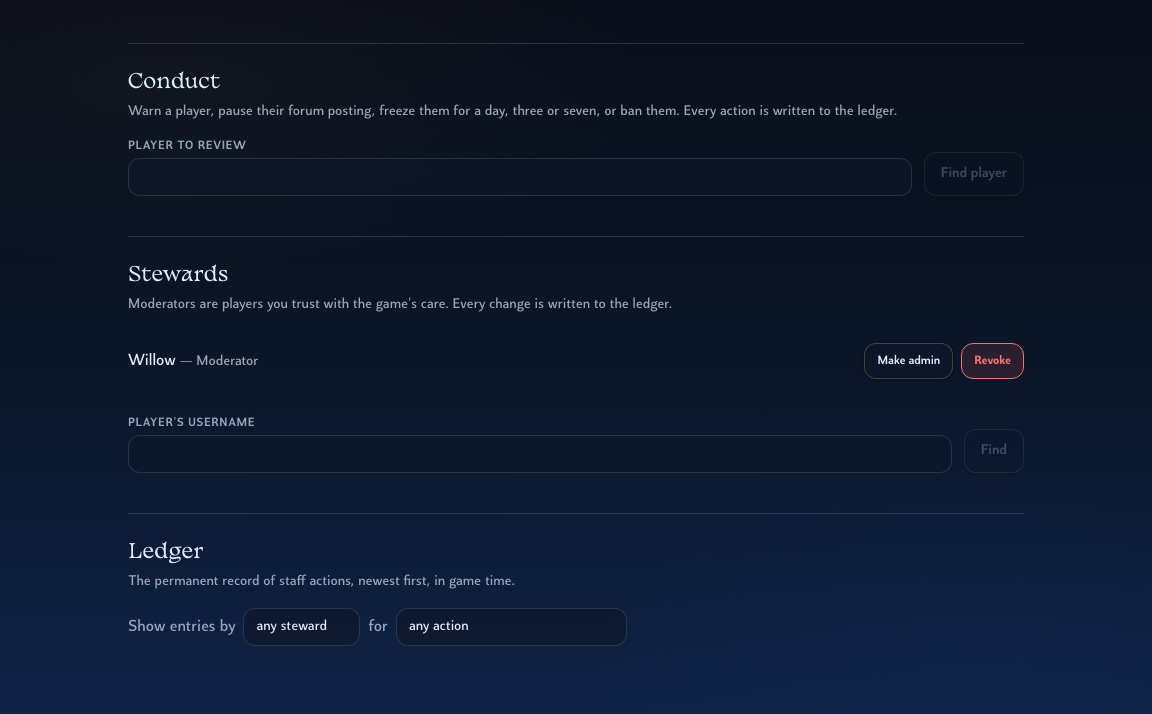
Test: The Steward's Office after an action's check-in has lapsed › a role change refused for a lapsed check-in returns the page to check-in
(page scrolled)
Click the button with aria-label "Revoke Willow" at (993, 361), box [961,343,1024,379]
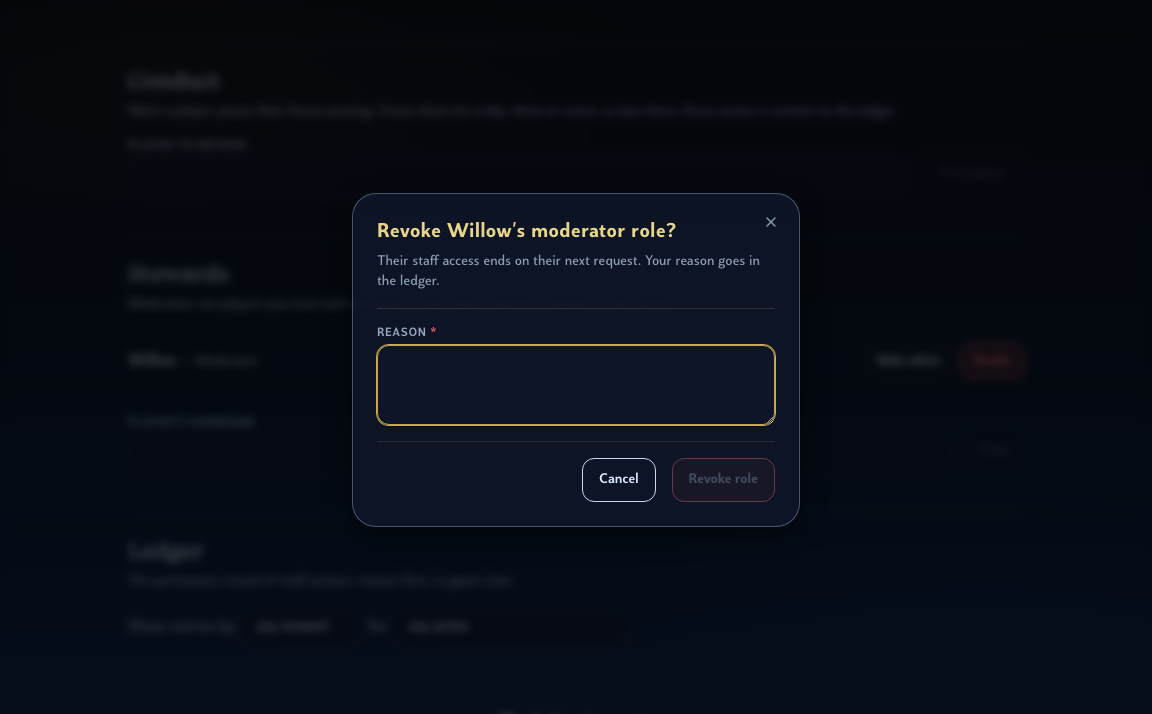
Type "Stepped away" into the text box labelled "Reason *" at (576, 385), box [377,345,775,425]
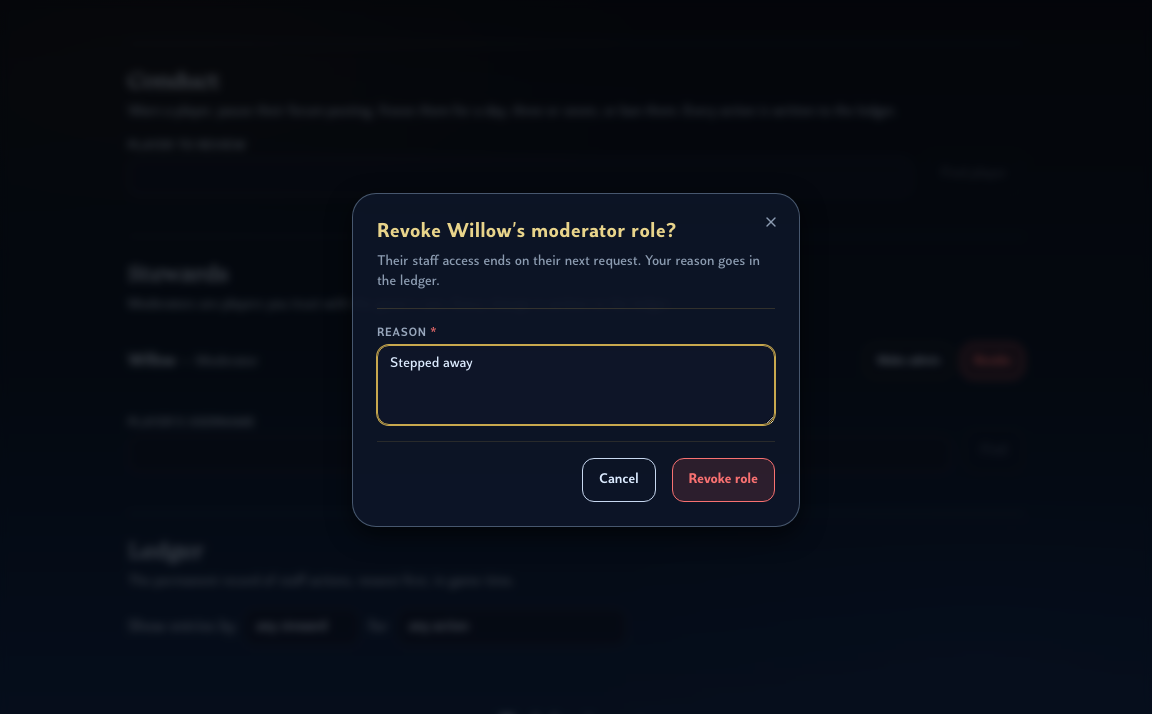
Click the button "Revoke role" at (723, 480), box [672,458,775,502]
(page scrolled)
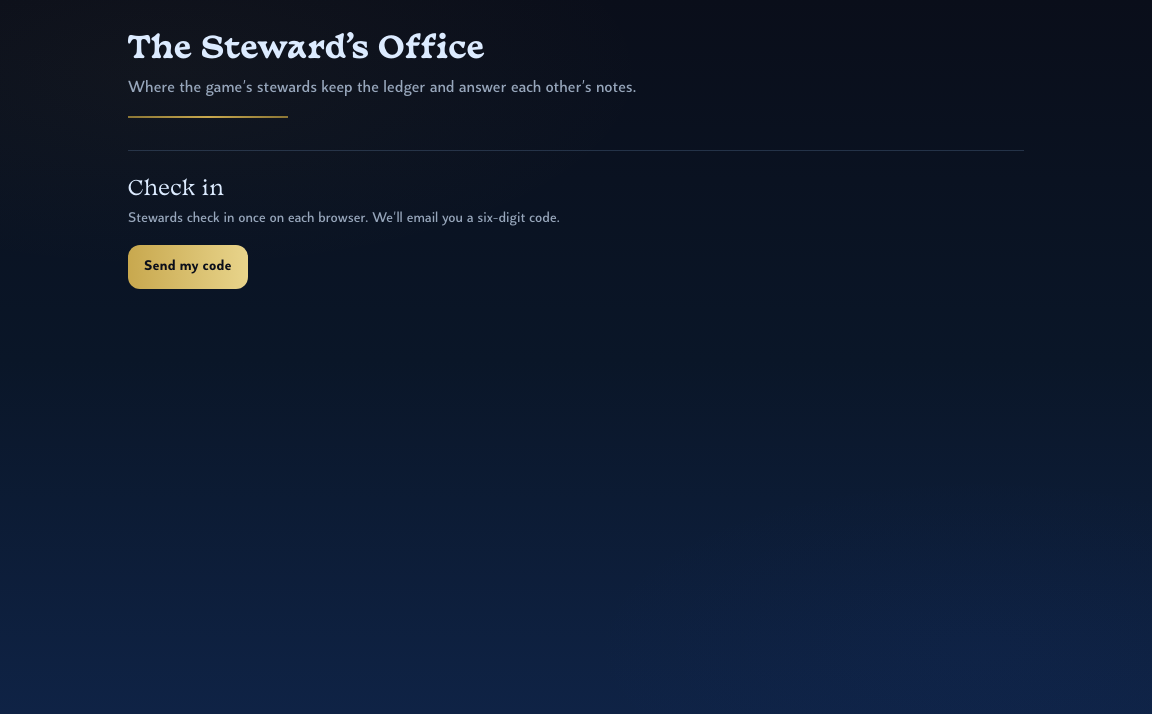
Result: the heading "Check in" is shown at [128,179,224,200]
